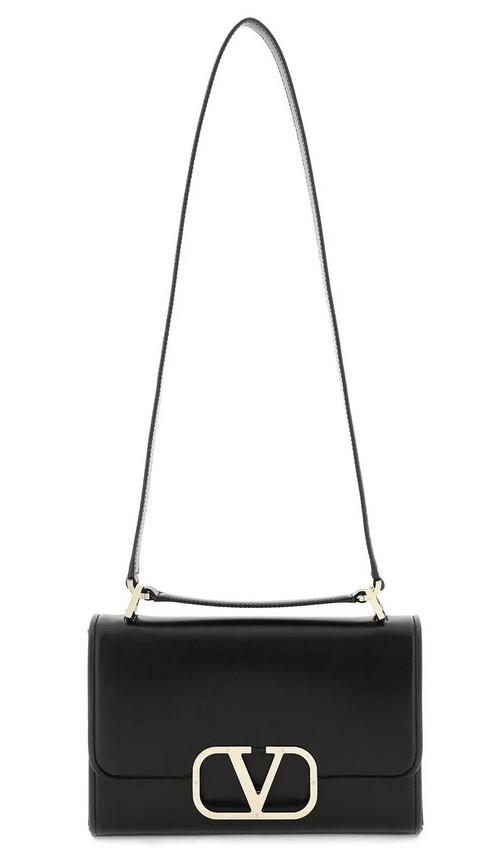VALENTINO: (193, 747, 318, 820)
